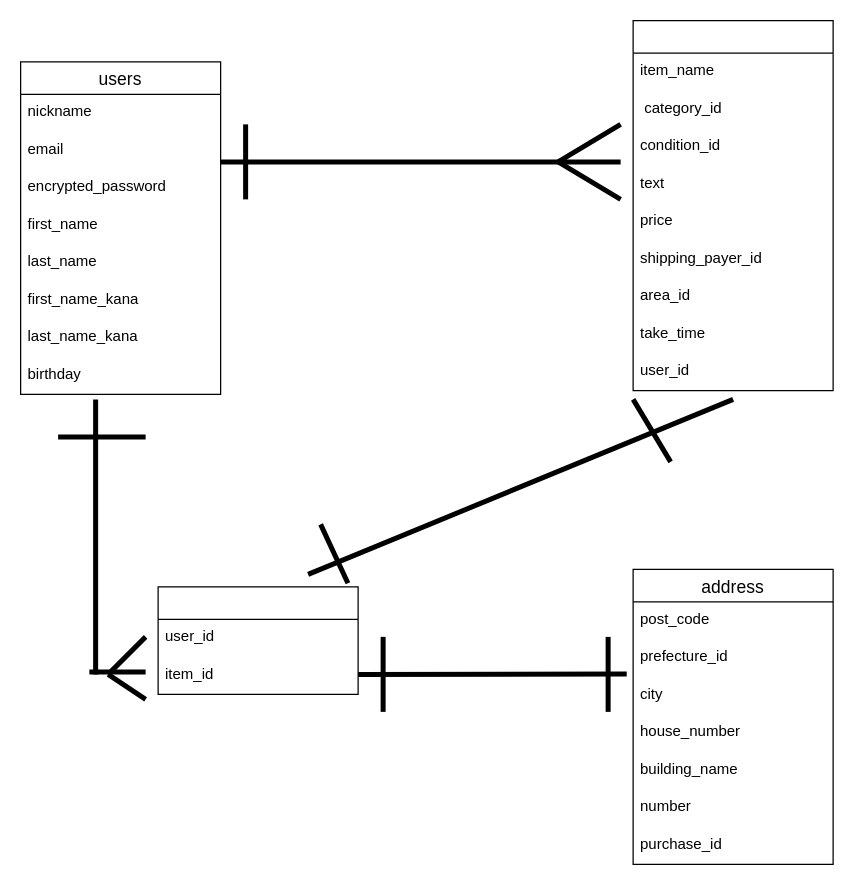
Some shapes in this 854 by 885 pixel diagram are drawn without their labels. Each missing label, with the box of its shape:
items: (632, 19, 833, 391)
purchases: (157, 586, 358, 694)
